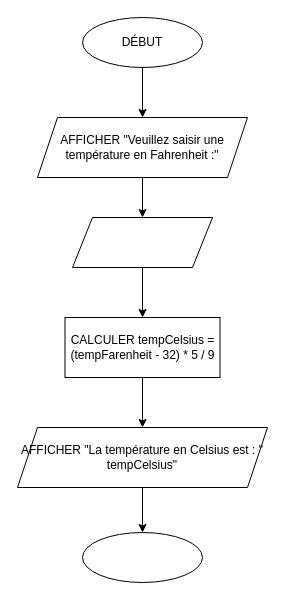
The diagram is 285 pixels wide and 600 high, and some of its shapes have lost their labels. Each missing label, with the centre of its shape:
"FIN" goes at point 142,557.
"LIRE tempFarenheit" goes at point 142,242.
